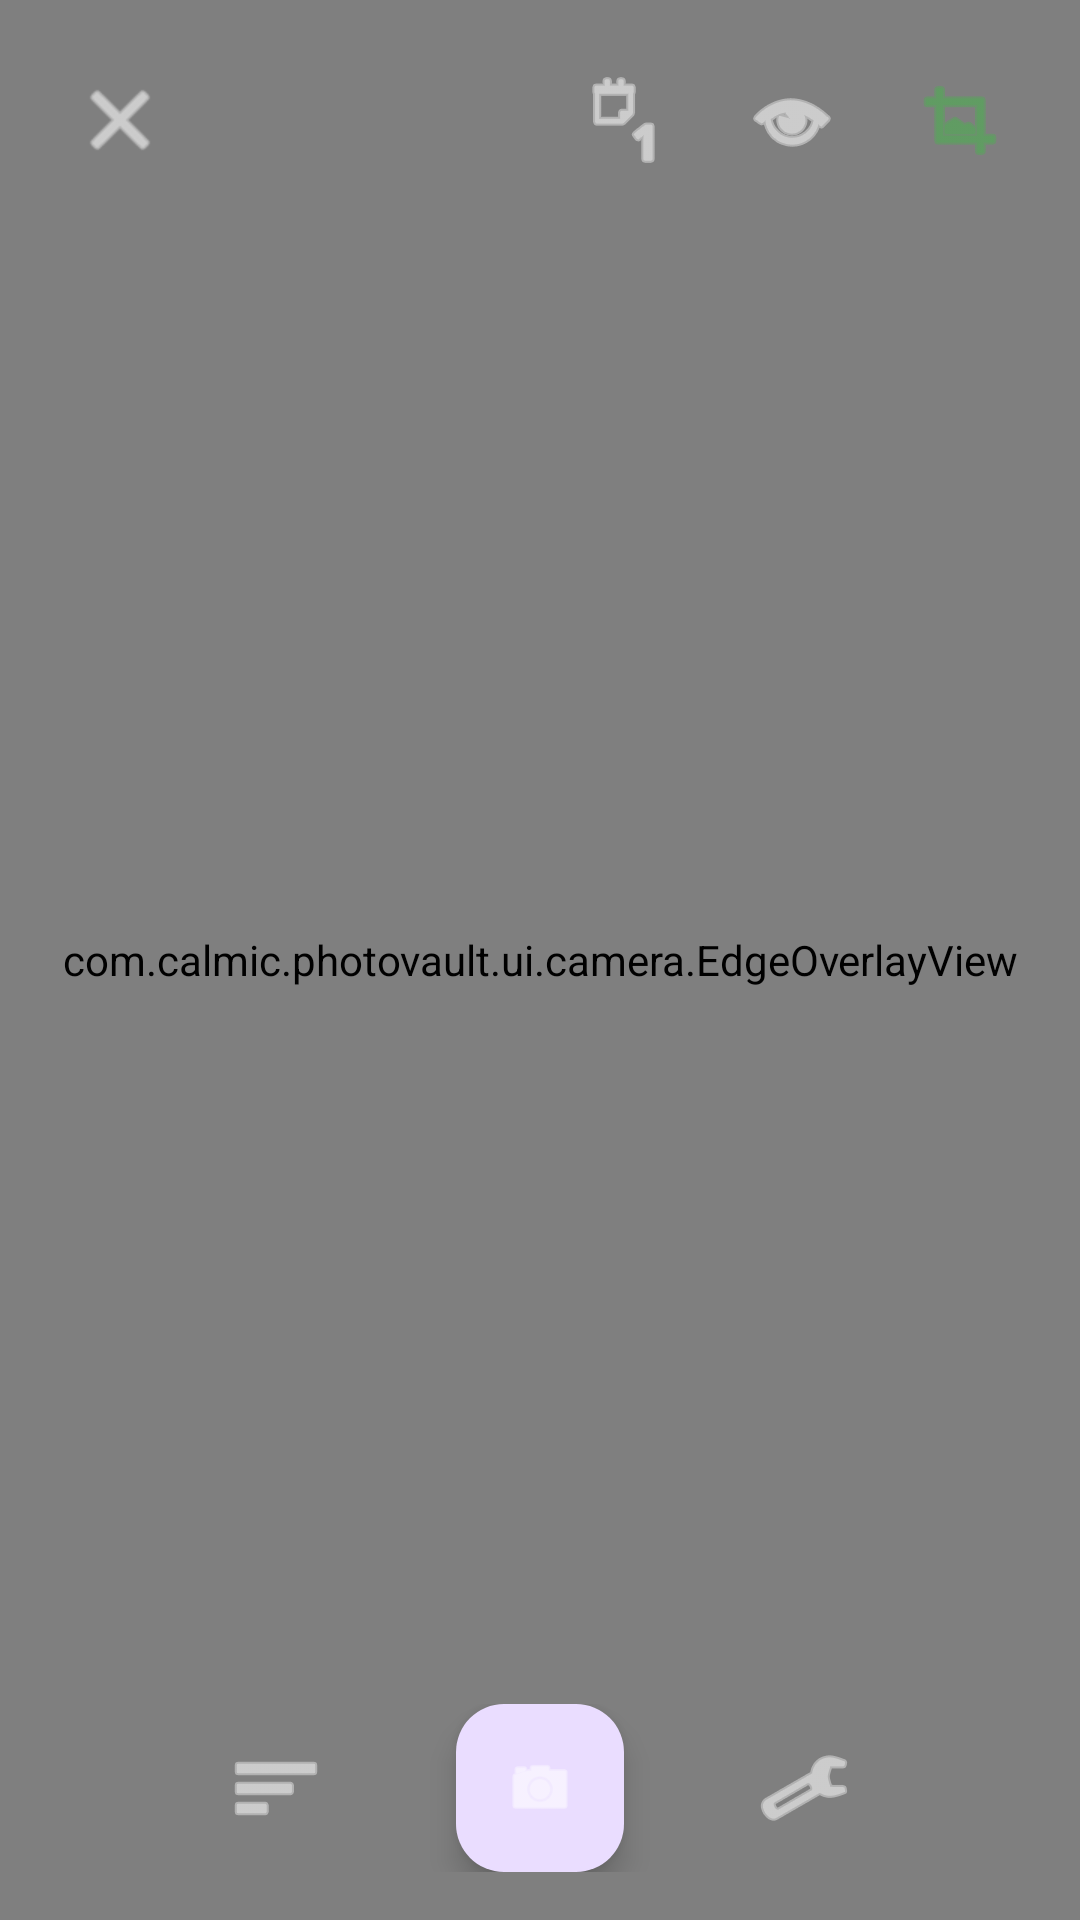

Icon bounding boxes for this 1080 × 1920 phone screenshot, format [x1=x1, y1=y1, x2=x2, y2=y2]:
close clear cancel: [x1=90, y1=90, x2=150, y2=150]
crop: [x1=926, y1=88, x2=994, y2=153]
day: [x1=592, y1=77, x2=655, y2=163]
preferences: [x1=761, y1=1755, x2=847, y2=1821]
sort by size: [x1=235, y1=1762, x2=317, y2=1815]
